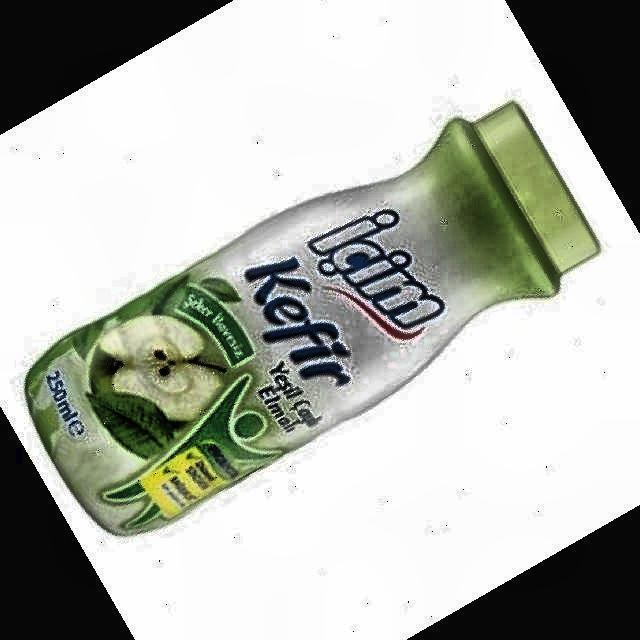plastic: (25, 102, 599, 535)
